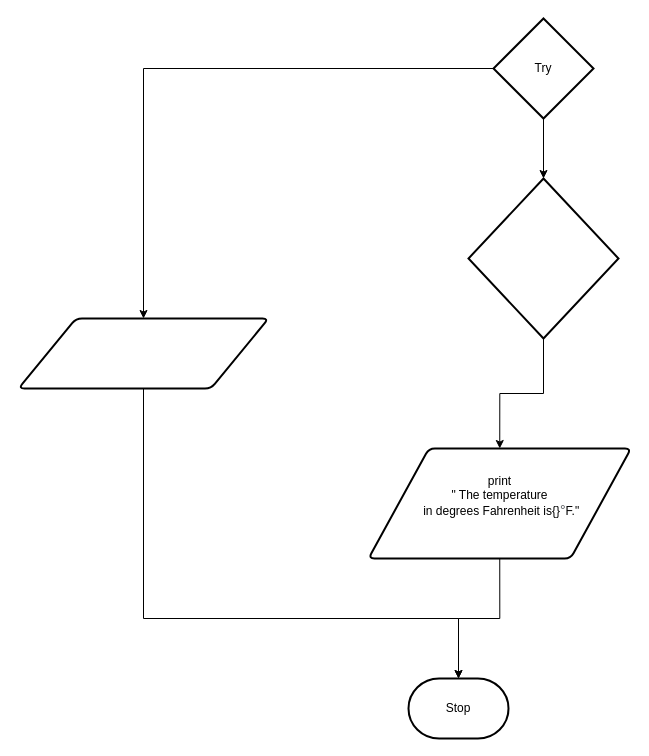
Image size: 649x756. Some labels were removed from this diagram. Each missing label, with the centre of its shape:
print "sorry, this is not a number" print " please try again": (143,353)
tf = (9 / 5) * tc_int + 32: (543,258)
